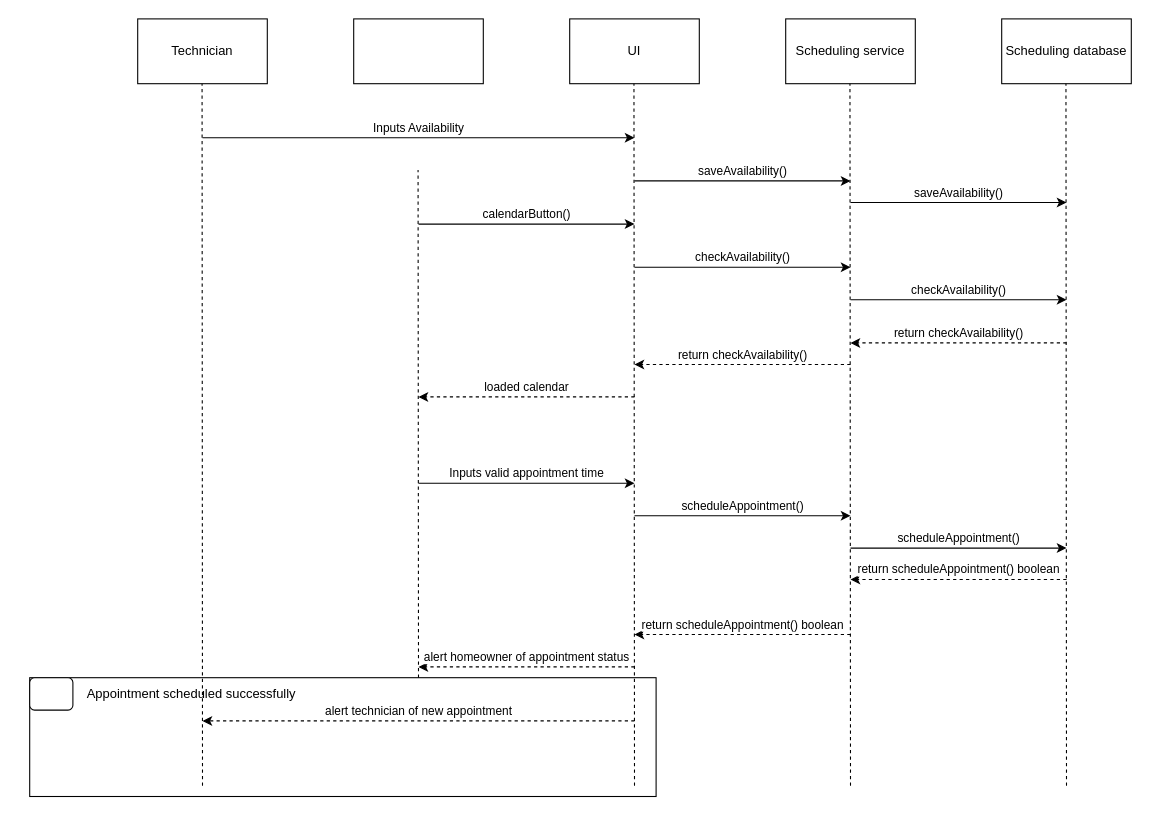
Image size: 1150x815. Some labels were removed from this diagram. The shapes that lost their labels are listed below. From the top down, each one's box as (x1, y1, x2, y2) in pixels, then its label:
(353, 18, 483, 84): Homeowner
(29, 677, 73, 710): opt
